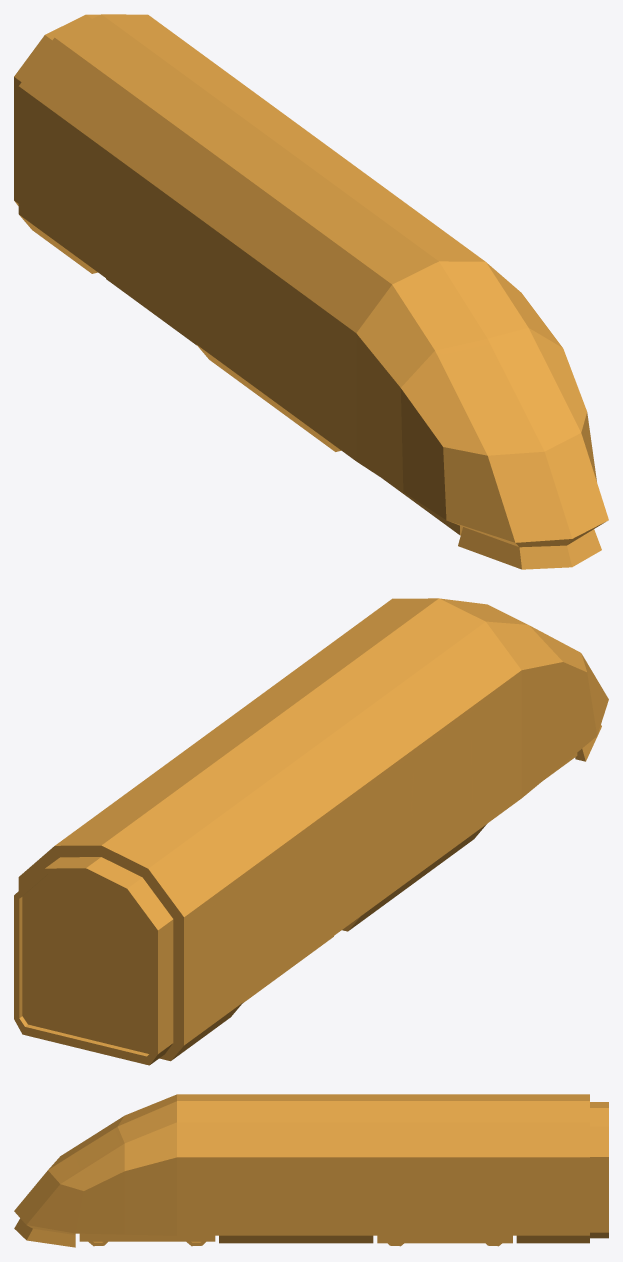
File: train-speed.glb
The picture shows the model from 3 angles, top to bottom: view 1: azimuth 30°, elevation 25°; view 2: azimuth 150°, elevation 25°; view 3: azimuth 270°, elevation 25°; orthographic projection. The views are drawn at different scales.
Visible parts, largest first — view 1: train-speed-base; view 2: train-speed-base; view 3: train-speed-base, train-speed-wheel-frame_B, train-speed-wheel-frame_F.
Boxes of the visible parts, x1,y1,x2,y2 form: train-speed-base: (14, 14, 608, 569); train-speed-base: (14, 598, 608, 1065); train-speed-base: (14, 1094, 608, 1247); train-speed-wheel-frame_B: (377, 1235, 512, 1243); train-speed-wheel-frame_F: (79, 1233, 215, 1241).
Bounding box in the file's own units: 3.1 × 3.92 × 15.79.
